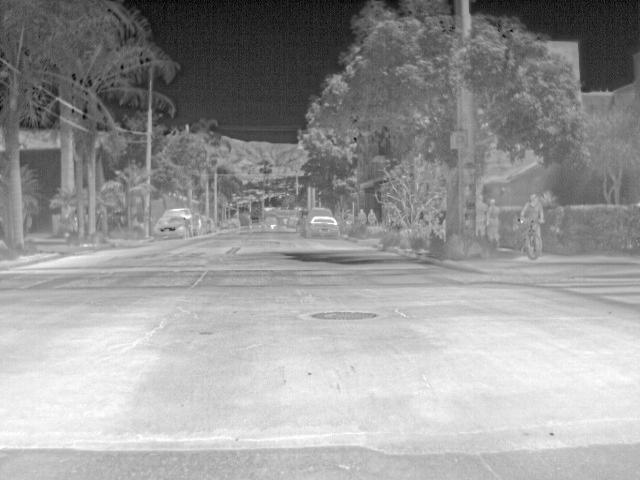car: (297, 206, 335, 234), (150, 217, 188, 242), (306, 214, 342, 240), (162, 208, 196, 235)
person: (516, 194, 547, 258), (484, 196, 501, 246), (472, 192, 487, 237), (366, 206, 380, 227), (355, 206, 368, 226)
